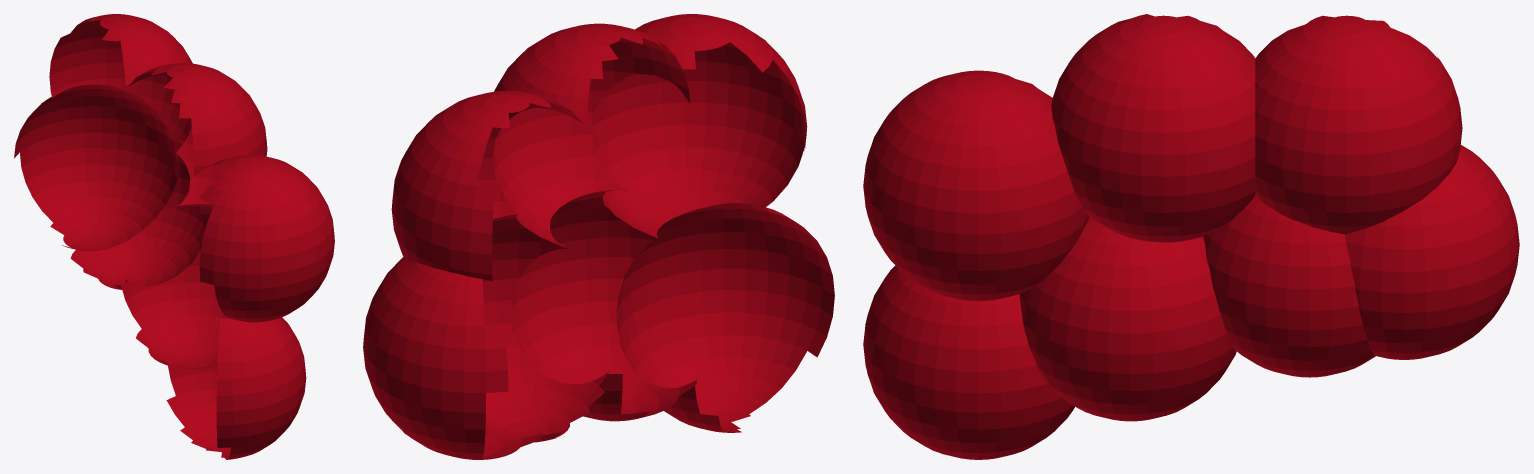
Rendered from cueva NUEVA .glb.
3 renders of one model, left to right at view 1: azimuth 30°, elevation 25°; view 2: azimuth 150°, elevation 25°; view 3: azimuth 270°, elevation 25°, orthographic. The views are drawn at different scales.
Visible parts, largest first — view 1: Sphere; view 2: Sphere; view 3: Sphere.
Boxes of the visible parts, <box> form: Sphere: <box>14,14,334,459</box>; Sphere: <box>363,14,834,459</box>; Sphere: <box>863,14,1519,459</box>.
Size of the model in its own units: 1.95 by 4.25 by 5.68.
